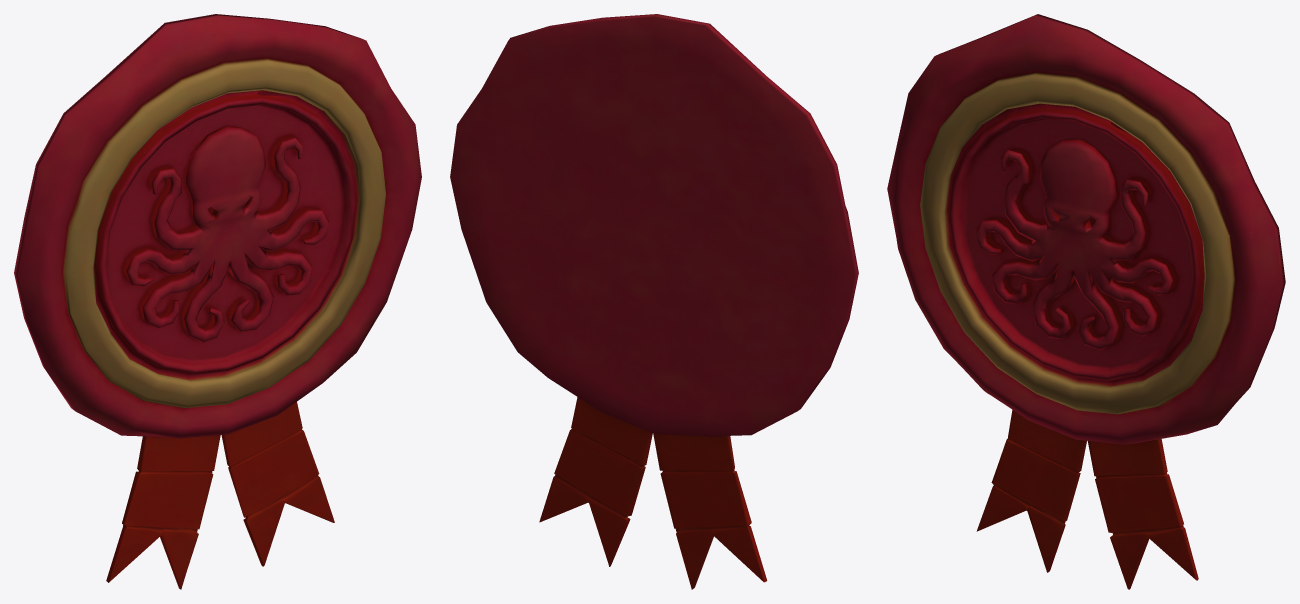
The model's file is seal.glb.
3 renders of one model, left to right at view 1: azimuth 30°, elevation 25°; view 2: azimuth 150°, elevation 25°; view 3: azimuth 330°, elevation 25°, orthographic. The views are drawn at different scales.
Visible parts, largest first — view 1: geometry_0; view 2: geometry_0; view 3: geometry_0.
Part boxes in pixels (x1=…): geometry_0: x1=14, y1=14, x2=421, y2=589; geometry_0: x1=450, y1=14, x2=858, y2=589; geometry_0: x1=887, y1=14, x2=1285, y2=589.
Size of the model in its own units: 0.7109 by 0.9526 by 0.0488.
Materials: 1 (1 with a texture image).
